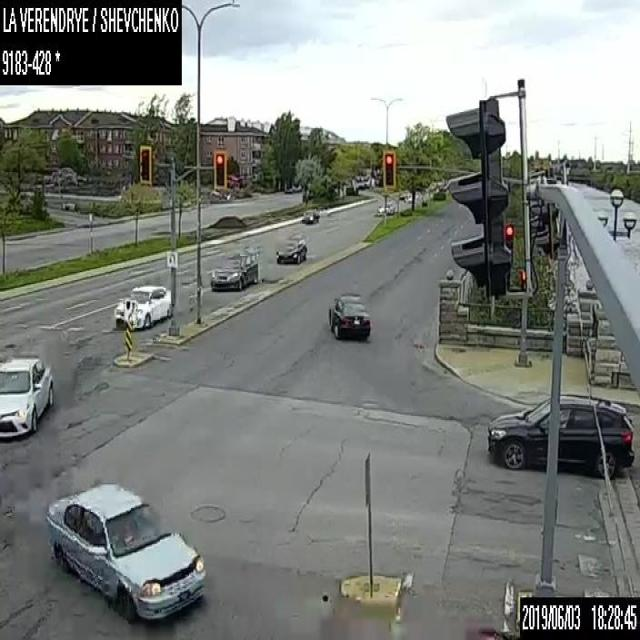vehicle: (46, 482, 205, 622), (486, 389, 636, 479), (0, 353, 53, 438), (114, 283, 170, 331), (327, 292, 370, 337), (210, 250, 258, 290), (276, 232, 306, 264), (301, 208, 319, 224), (377, 200, 394, 216), (356, 179, 365, 188)
